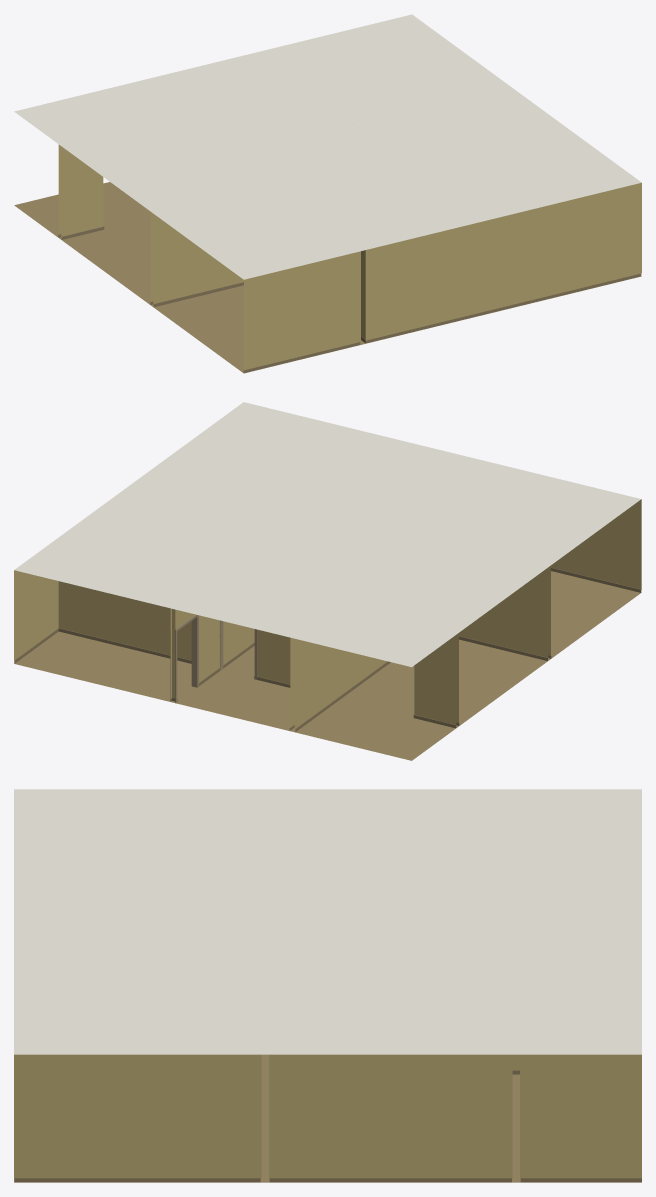
File: chunk_5_5.glb
3 views of the same model, one above another, from view 1: azimuth 30°, elevation 25°; view 2: azimuth 150°, elevation 25°; view 3: azimuth 270°, elevation 25° (orthographic). The views are drawn at different scales.
Parts seen in each view (by area): view 1: chunk_5_5; view 2: chunk_5_5; view 3: chunk_5_5.
Part boxes in pixels (x1,y1,x2,y2): chunk_5_5: [14, 14, 641, 373]; chunk_5_5: [14, 402, 641, 760]; chunk_5_5: [14, 789, 641, 1182].
Bounding box in the file's own units: 12.01 × 2.7 × 12.
